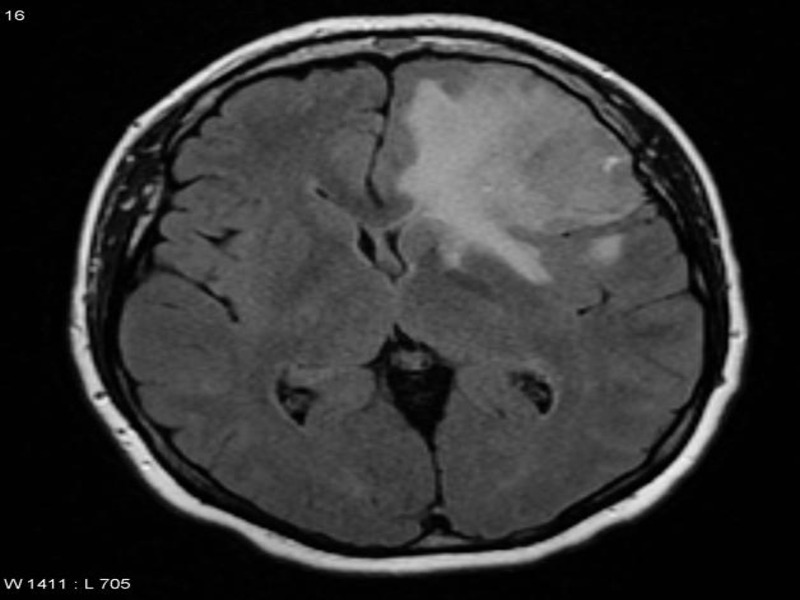tumor: (385, 67, 585, 291)
